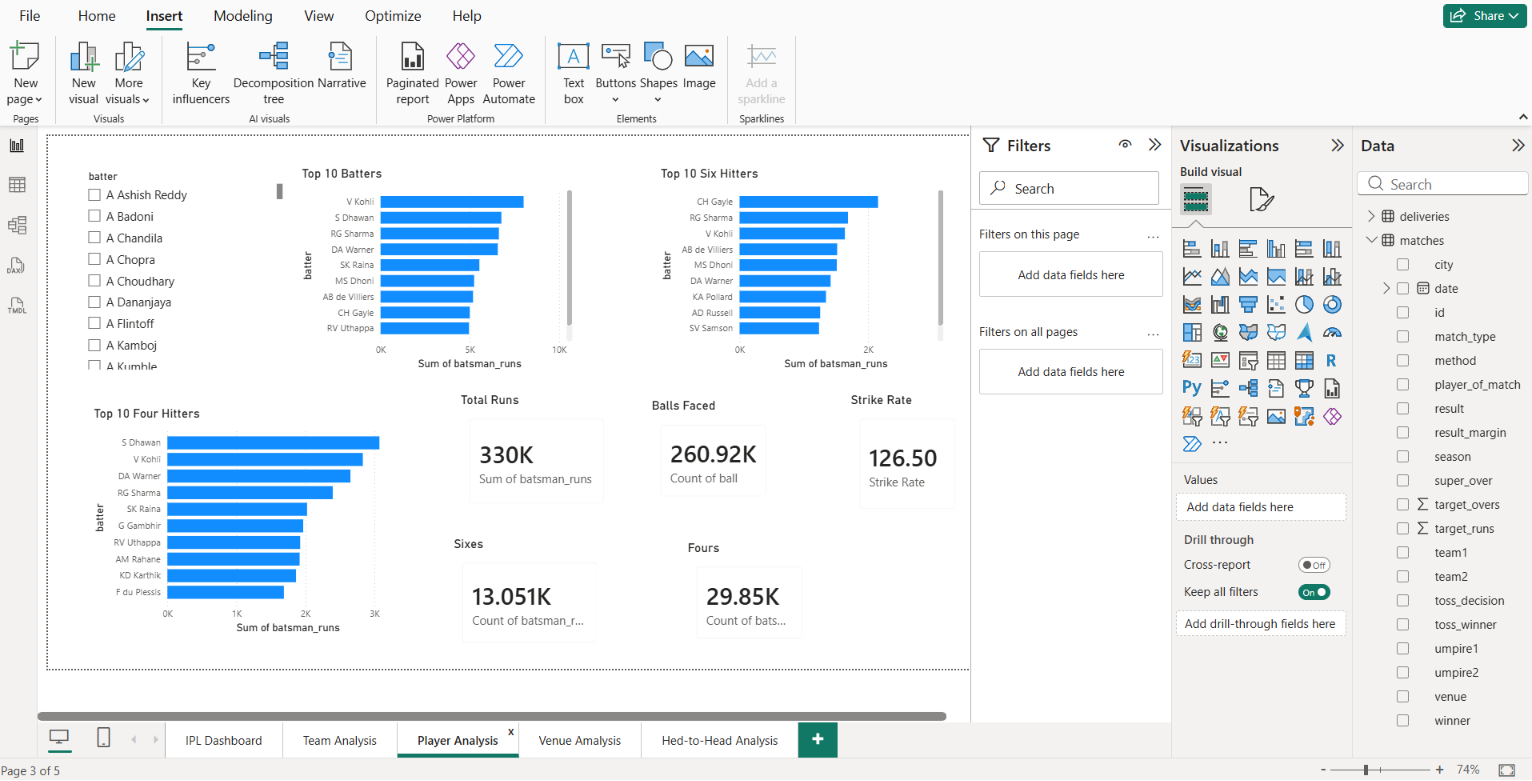

What the dashboard file says about the page in this screenshot:
{"tool":"powerbi","page":{"name":"Player Analysis","canvas":[1280,720],"ordinal":2},"visuals":[{"type":"slicer","fields":{"Values":["deliveries.batter"]},"box":[42.5,41.2,279.9,279.9],"z":0},{"type":"cardVisual","title":"Total Runs","fields":{"Data":["Sum(deliveries.batsman_runs)"]},"box":[553,345.8,216.8,167.4],"z":1000},{"type":"cardVisual","title":"Balls Faced","fields":{"Data":["CountNonNull(deliveries.ball)"]},"box":[811,354,177,150.9],"z":2000},{"type":"cardVisual","title":"Fours","fields":{"Data":["CountNonNull(deliveries.batsman_runs)"]},"box":[859,546.1,177,150.9],"z":3000},{"type":"cardVisual","title":"Sixes","fields":{"Data":["CountNonNull(deliveries.batsman_runs)"]},"box":[543.4,540.7,216.8,161.9],"z":4000},{"type":"clusteredBarChart","title":"Top 10 Batters","fields":{"Category":["deliveries.batter"],"Y":["Sum(deliveries.batsman_runs)"]},"box":[337.6,41.2,376,279.9],"z":5000},{"type":"clusteredBarChart","title":"Top 10 Six Hitters","fields":{"Category":["deliveries.batter"],"Y":["Sum(deliveries.batsman_runs)"]},"box":[823.3,41.2,392.5,279.9],"z":6000},{"type":"clusteredBarChart","title":"Top 10 Four Hitters","fields":{"Category":["deliveries.batter"],"Y":["Sum(deliveries.batsman_runs)"]},"box":[56.3,365,443.2,312.9],"z":7000},{"type":"cardVisual","title":"Strike Rate","fields":{"Data":["deliveries.Strike Rate"]},"box":[1079.9,345.8,163.3,175.6],"z":8000}]}

Visuals, with their boxes on the page's 1280x720 design canvas (x1, y1, x2, y2). These are canvas units, not pixel positions in the 1532x781 screenshot, which may show the page scaled, cropped or inside an application window:
slicer - deliveries.batter: rect(42, 41, 322, 321)
"Total Runs" cardVisual: rect(553, 346, 770, 513)
"Balls Faced" cardVisual: rect(811, 354, 988, 505)
"Fours" cardVisual: rect(859, 546, 1036, 697)
"Sixes" cardVisual: rect(543, 541, 760, 703)
"Top 10 Batters" clusteredBarChart: rect(338, 41, 714, 321)
"Top 10 Six Hitters" clusteredBarChart: rect(823, 41, 1216, 321)
"Top 10 Four Hitters" clusteredBarChart: rect(56, 365, 500, 678)
"Strike Rate" cardVisual: rect(1080, 346, 1243, 521)
